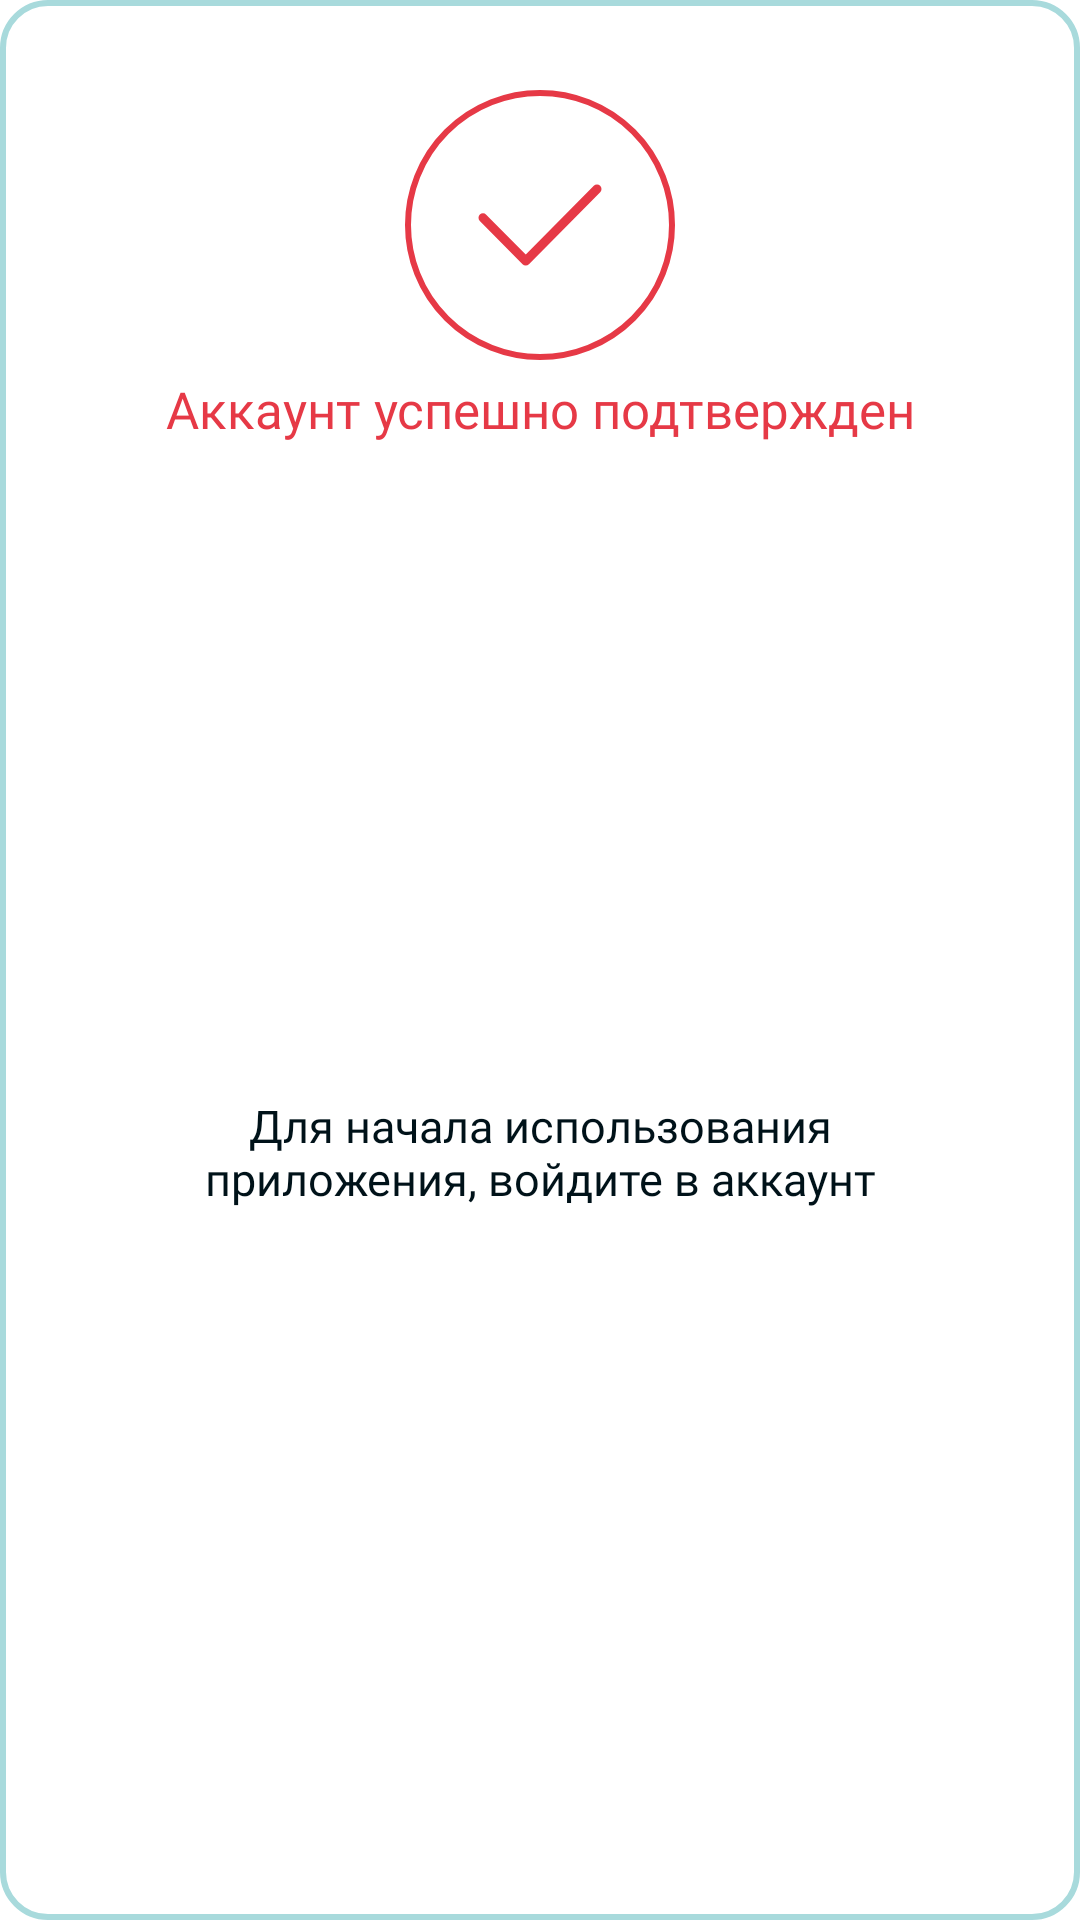

Icons on this 1080x1920 Android screen, each with the point to tap as point (x, y):
confirm mail: point (540, 225)
